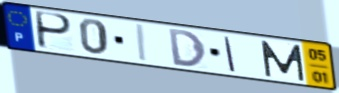0: (77, 18, 109, 56)
D: (166, 27, 209, 69)
I: (222, 35, 237, 74), (136, 23, 150, 64)
M: (259, 39, 308, 83)
P: (36, 10, 75, 51)
